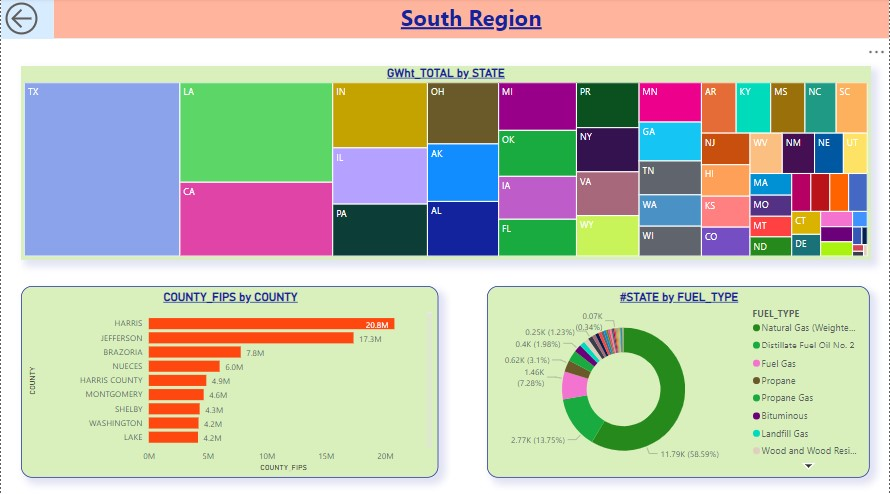

This screenshot's page, from the dashboard's own definition file:
{"tool":"powerbi","page":{"name":"south","canvas":[1280,720],"ordinal":4},"visuals":[{"type":"clusteredBarChart","fields":{"Category":["data_1.COUNTY"],"Y":["Sum(data_1.COUNTY_FIPS)"]},"box":[28.1,414.4,601.4,276.3],"z":0},{"type":"donutChart","title":"#STATE by FUEL_TYPE","fields":{"Category":["data_1.FUEL_TYPE"],"Y":["CountNonNull(data_1.STATE)"]},"box":[700.4,414.4,551.3,276.3],"z":1000},{"type":"actionButton","box":[0,0,75.5,59],"z":2000},{"type":"treemap","fields":{"Details":["data_1.STATE"],"Values":["Sum(data_1.GWht_TOTAL)"]},"box":[28.1,97.8,1223.6,278.7],"z":3000},{"type":"textbox","box":[75.5,0,1204.5,59],"z":4000}]}

Visuals, with their boxes in screenshot pixels (x1, y1, x2, y2), scaled from the page's 1280x720 canvas onto the 890x494 screenshot:
clusteredBarChart - data_1.COUNTY x Sum(data_1.COUNTY_FIPS): left=20, top=284, right=438, bottom=474
"#STATE by FUEL_TYPE" donutChart: left=487, top=284, right=870, bottom=474
actionButton: left=0, top=0, right=52, bottom=40
treemap - data_1.STATE x Sum(data_1.GWht_TOTAL): left=20, top=67, right=870, bottom=258
textbox: left=52, top=0, right=889, bottom=40
